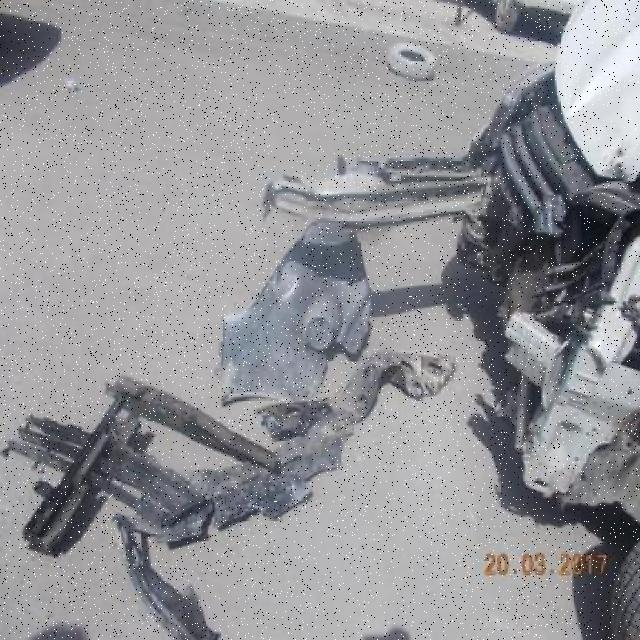damage: (458, 32, 630, 519)
